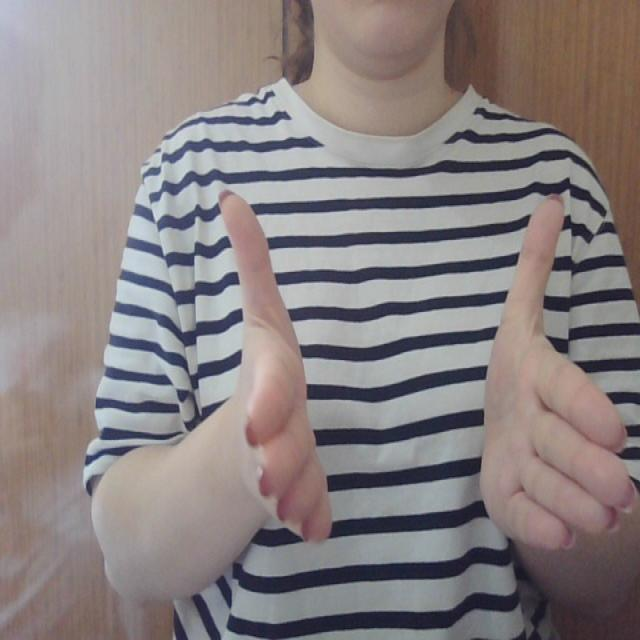Nasil: (210, 186, 640, 568)
